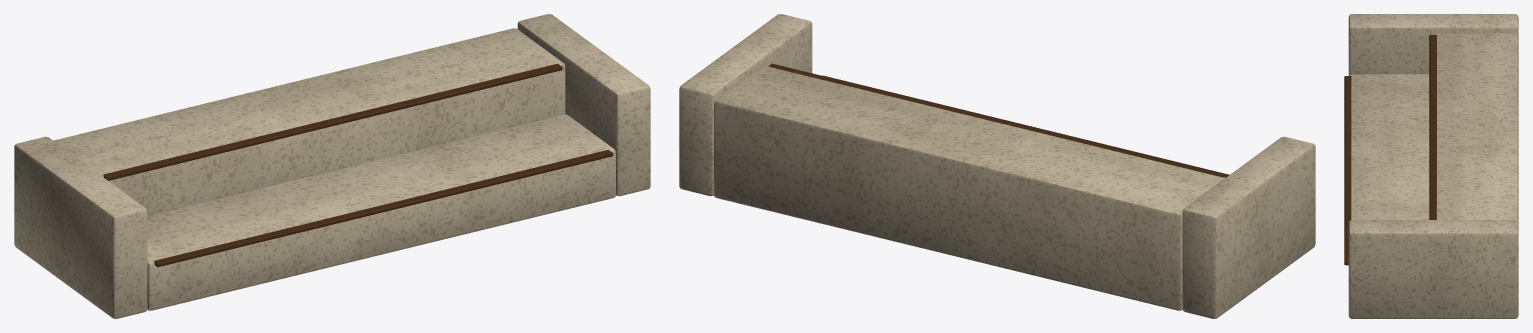
File: observatory-plinth-steps.lod0.glb
3 views of the same model, side by side, from view 1: azimuth 30°, elevation 25°; view 2: azimuth 150°, elevation 25°; view 3: azimuth 270°, elevation 25° (orthographic). The views are drawn at different scales.
Visible parts, largest first — view 1: observatory_plinth_steps_Stone • warm limestone, observatory_plinth_steps_Trim • places palette; view 2: observatory_plinth_steps_Stone • warm limestone, observatory_plinth_steps_Trim • places palette; view 3: observatory_plinth_steps_Stone • warm limestone, observatory_plinth_steps_Trim • places palette.
Boxes of the visible parts, box(x1,y1,x2,y2) form: observatory_plinth_steps_Stone • warm limestone: box(14, 14, 650, 318); observatory_plinth_steps_Trim • places palette: box(103, 63, 613, 266); observatory_plinth_steps_Stone • warm limestone: box(679, 14, 1315, 318); observatory_plinth_steps_Trim • places palette: box(768, 63, 1229, 177); observatory_plinth_steps_Stone • warm limestone: box(1348, 14, 1518, 318); observatory_plinth_steps_Trim • places palette: box(1344, 35, 1436, 265).
Size of the model in its own units: 1.84 by 0.34 by 0.615.
2 materials, 2 textured.
